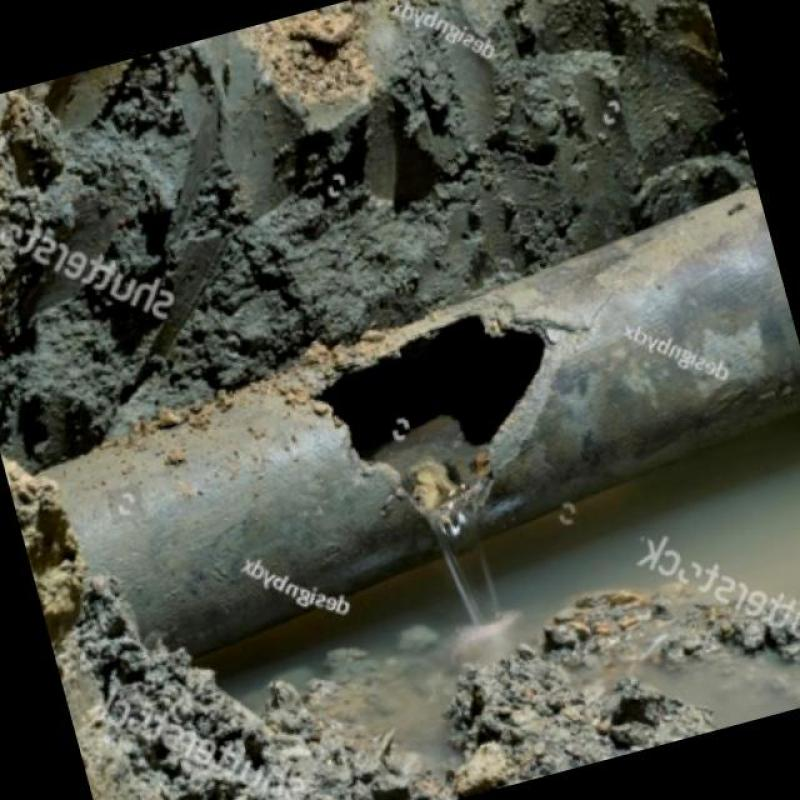Fracture: (285, 310, 590, 492)
